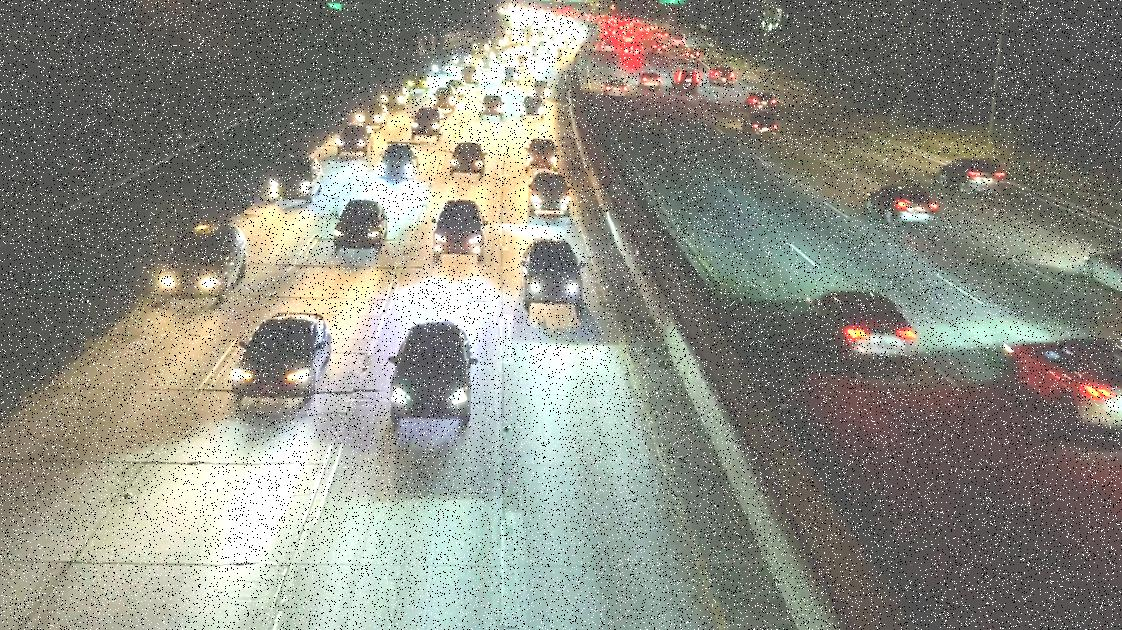car: (1010, 320, 1122, 432), (386, 321, 473, 430), (234, 310, 333, 400), (806, 280, 922, 354), (160, 223, 250, 301), (517, 239, 585, 313), (430, 199, 488, 260), (332, 198, 390, 253), (865, 185, 940, 224), (1080, 238, 1122, 304), (937, 156, 1011, 193), (268, 157, 323, 201), (526, 171, 573, 217), (381, 141, 421, 180), (449, 143, 489, 178), (335, 124, 375, 156), (524, 137, 560, 170), (409, 106, 445, 138), (742, 111, 780, 138), (671, 68, 700, 91), (604, 78, 629, 97), (639, 71, 663, 87)
